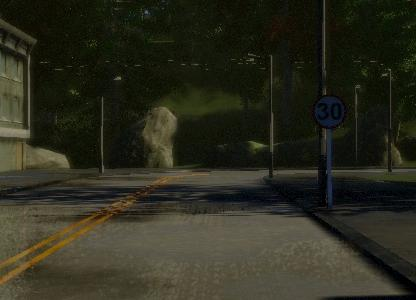Speed_30: (310, 90, 350, 131)
